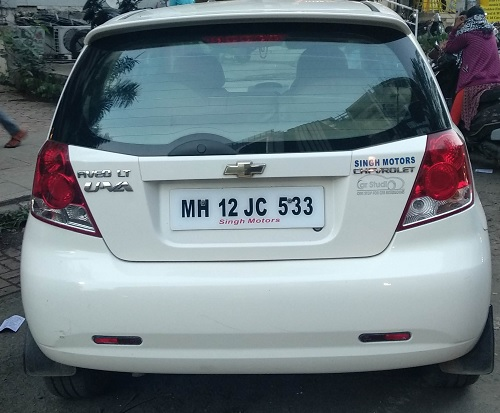licenseplate: (167, 187, 328, 230)
